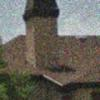chimneys: (25, 1, 59, 68)
